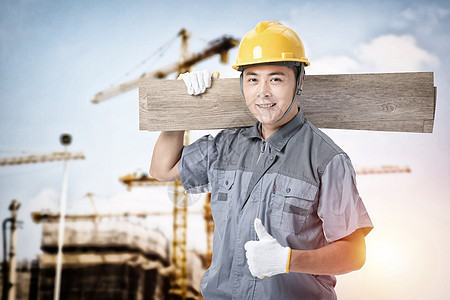safetyhat: (130, 17, 392, 300)
